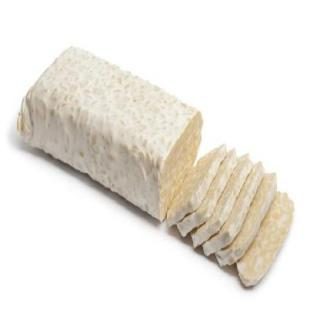Tempe: (11, 44, 297, 293)
